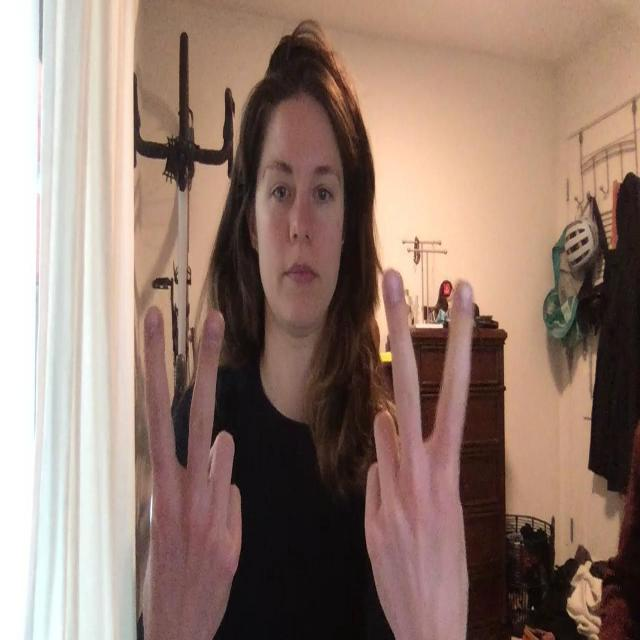face: (255, 118, 343, 334)
